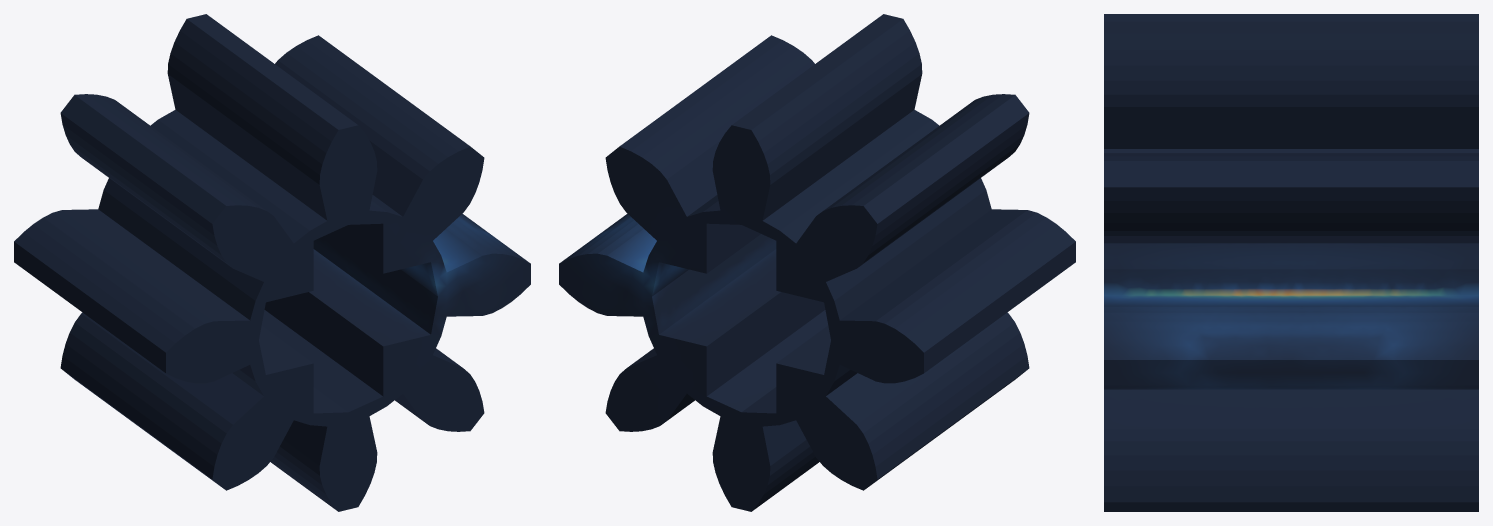
Rendered from fogto.glb.
3 views of the same model, side by side, from view 1: azimuth 30°, elevation 25°; view 2: azimuth 150°, elevation 25°; view 3: azimuth 270°, elevation 25° (orthographic). The views are drawn at different scales.
Parts seen in each view (by area): view 1: fem; view 2: fem; view 3: fem.
Boxes of the visible parts, x1=… form: fem: x1=14, y1=14, x2=530, y2=511; fem: x1=559, y1=14, x2=1075, y2=511; fem: x1=1104, y1=14, x2=1478, y2=511.
Size of the model in its own units: 9.99 by 9.99 by 7.2.
